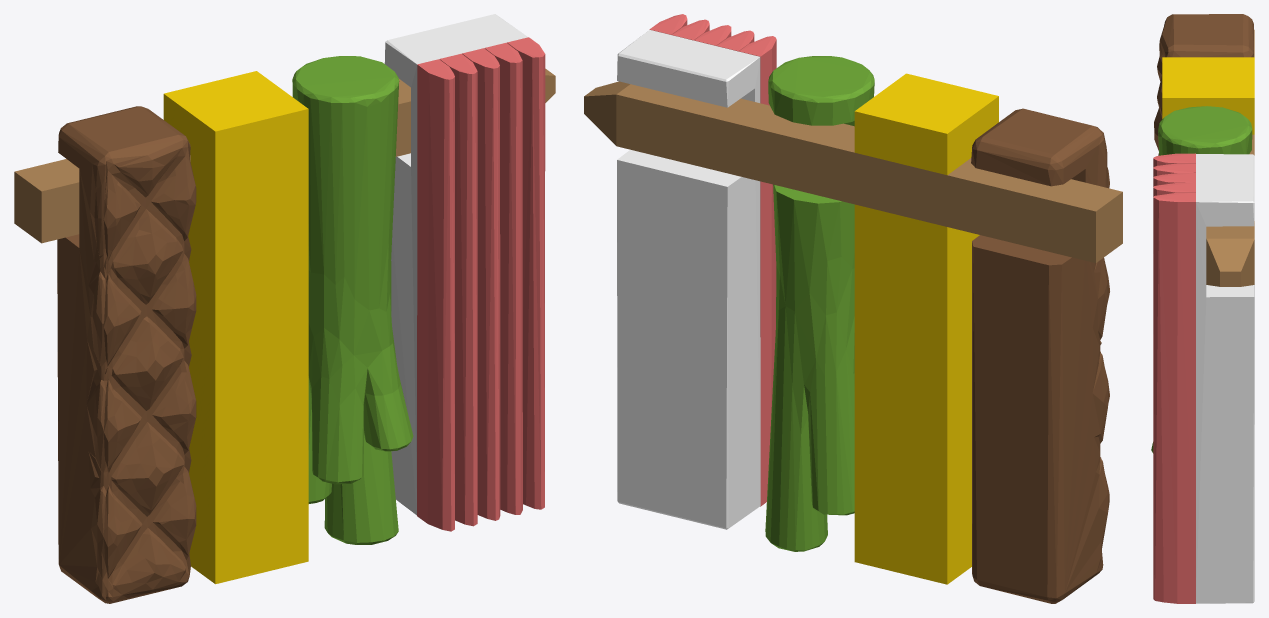
The model's file is color_jeon.glb.
The picture shows the model from 3 angles, left to right: view 1: azimuth 30°, elevation 25°; view 2: azimuth 150°, elevation 25°; view 3: azimuth 270°, elevation 25°; orthographic projection. The views are drawn at different scales.
Visible parts, largest first — view 1: Cube.2915, Cube.002, Cube.001; view 2: Cube.2915, Cube.002, Cube.001; view 3: Cube.2915, Cube.002, Cube.001.
Boxes of the visible parts, x1=… form: Cube.2915: x1=163, y1=14, x2=545, y2=584; Cube.002: x1=57, y1=106, x2=196, y2=603; Cube.001: x1=14, y1=68, x2=555, y2=243; Cube.2915: x1=617, y1=14, x2=998, y2=584; Cube.002: x1=971, y1=108, x2=1109, y2=603; Cube.001: x1=584, y1=81, x2=1122, y2=263; Cube.2915: x1=1151, y1=57, x2=1254, y2=603; Cube.002: x1=1154, y1=14, x2=1253, y2=155; Cube.001: x1=1206, y1=29, x2=1254, y2=286.
Bounding box in the file's own units: 15.76 × 13.45 × 3.05.
